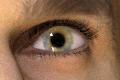eye: (43, 27, 73, 52)
